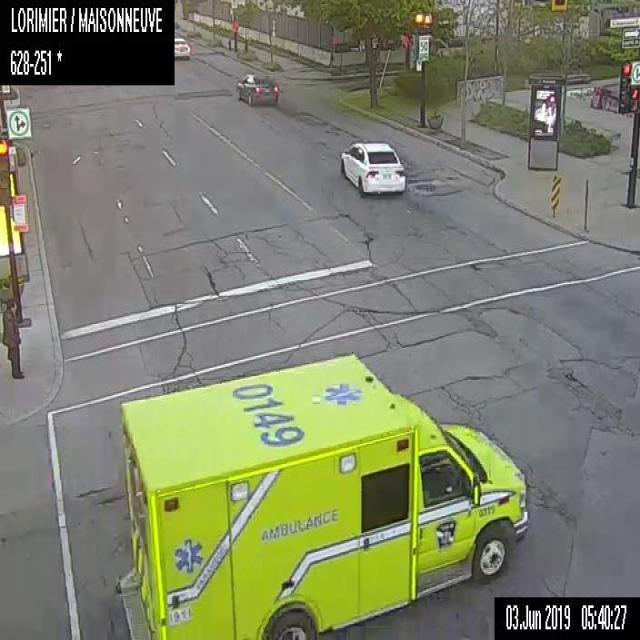pedestrian: (1, 298, 23, 378)
vehicle: (118, 351, 528, 638), (338, 137, 405, 195), (235, 70, 278, 106), (174, 36, 190, 57)
